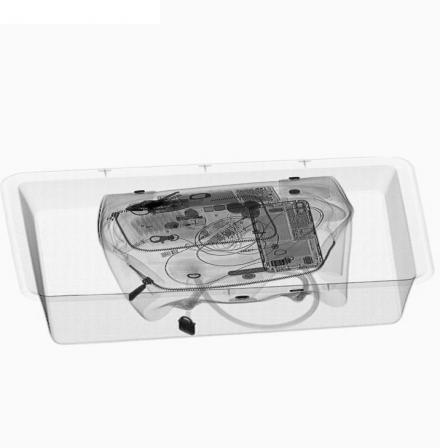Lighter: (167, 217, 207, 231)
